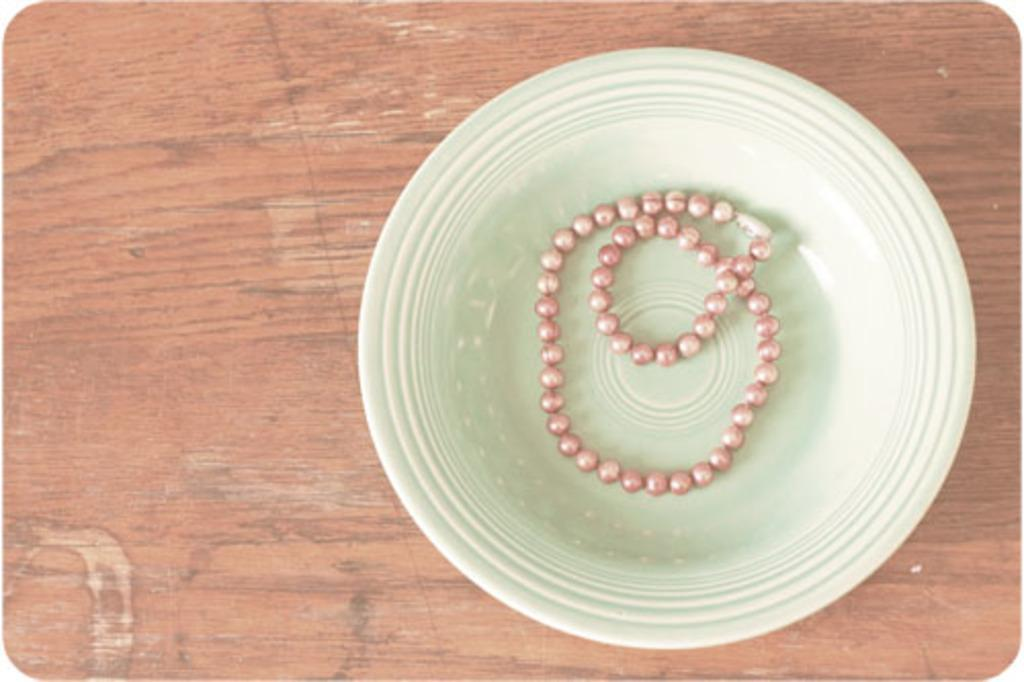plate: (358, 47, 978, 650)
